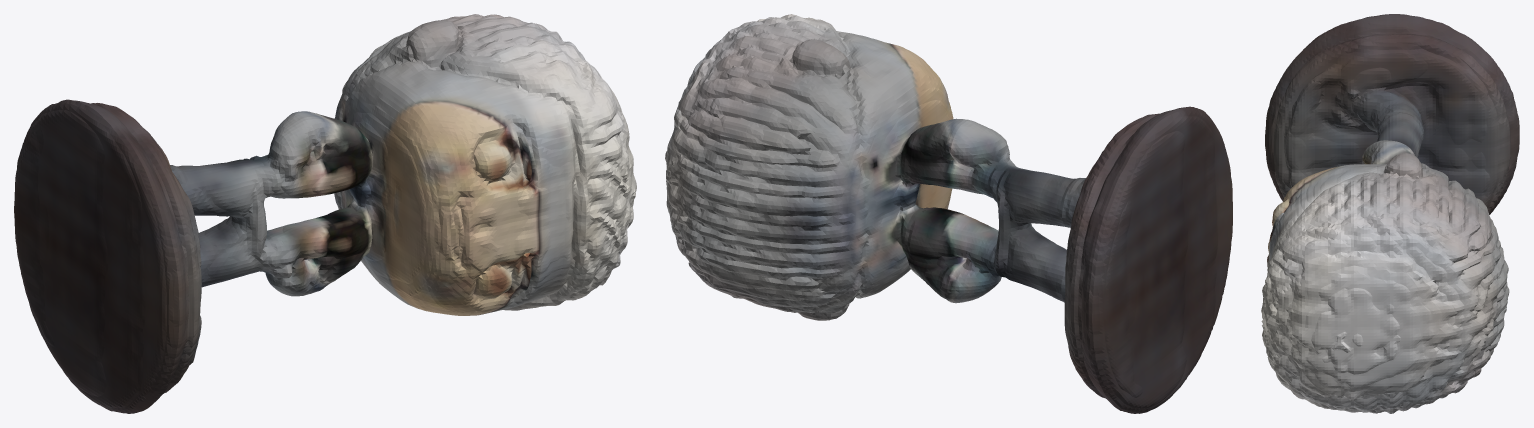
Rendered from glenn.glb.
The picture shows the model from 3 angles, left to right: view 1: azimuth 30°, elevation 25°; view 2: azimuth 150°, elevation 25°; view 3: azimuth 270°, elevation 25°; orthographic projection. The views are drawn at different scales.
Visible parts, largest first — view 1: geometry_0; view 2: geometry_0; view 3: geometry_0.
Boxes of the visible parts, x1,y1,x2,y2 form: geometry_0: (14,14,636,413); geometry_0: (665,14,1232,413); geometry_0: (1261,14,1519,413).
Bounding box in the file's own units: 1.01 × 0.5593 × 0.5397.
